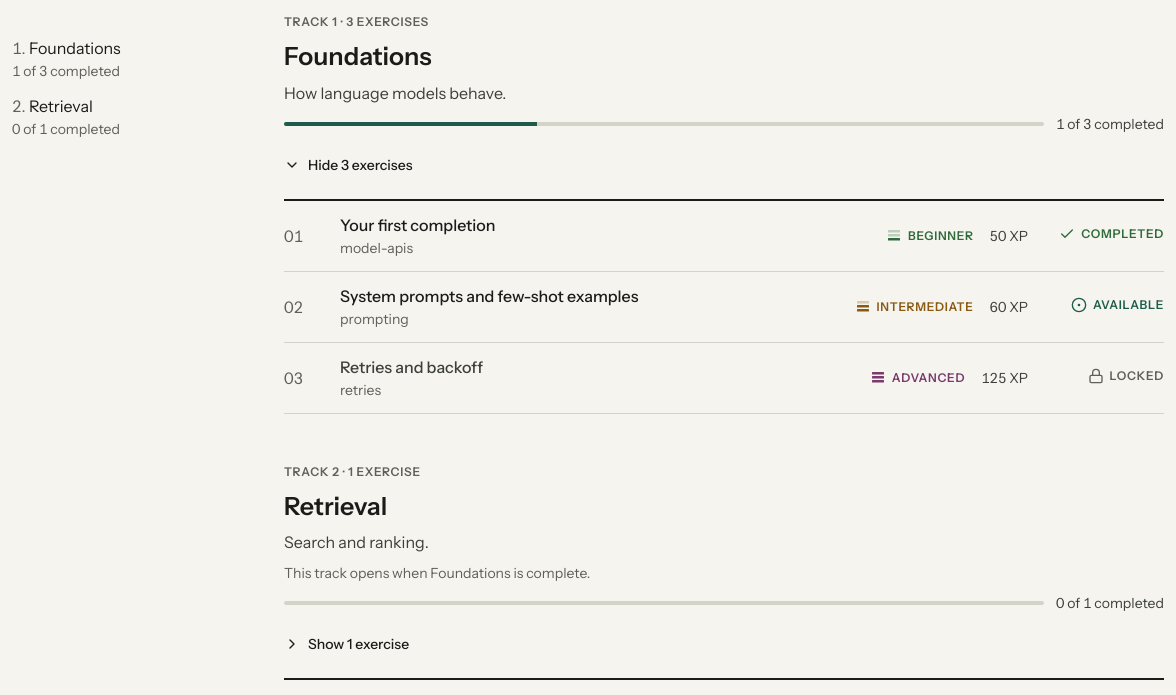
Test: syllabus folding › folds a locked track behind a button that says what it holds, and opens it
The image size is (1176, 695).
Expected: the link "Fixed-size chunking" is not shown
Step 1. Click the button named "Show 1 exercise in Retrieval" → [347, 644], box [280,622,413,666]
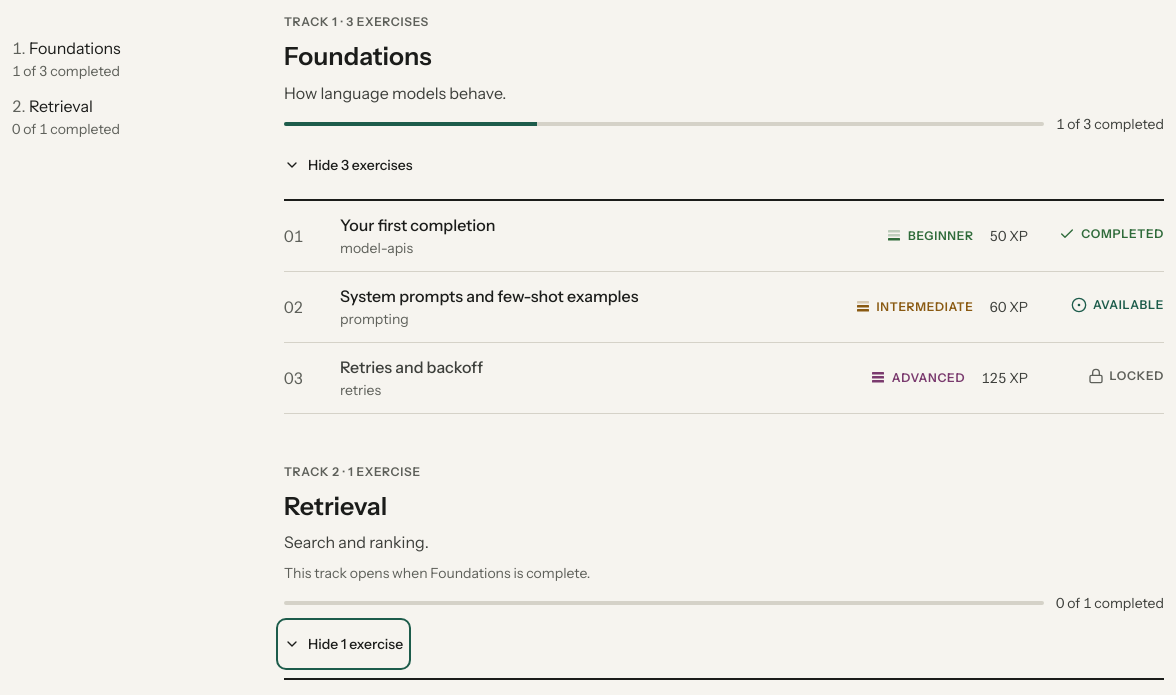
Now the button named "Show 1 exercise in Retrieval" is expanded, box [280,622,407,666]
Step 2. Click the button named "exercises in Foundations" → [348, 164], box [280,142,416,186]
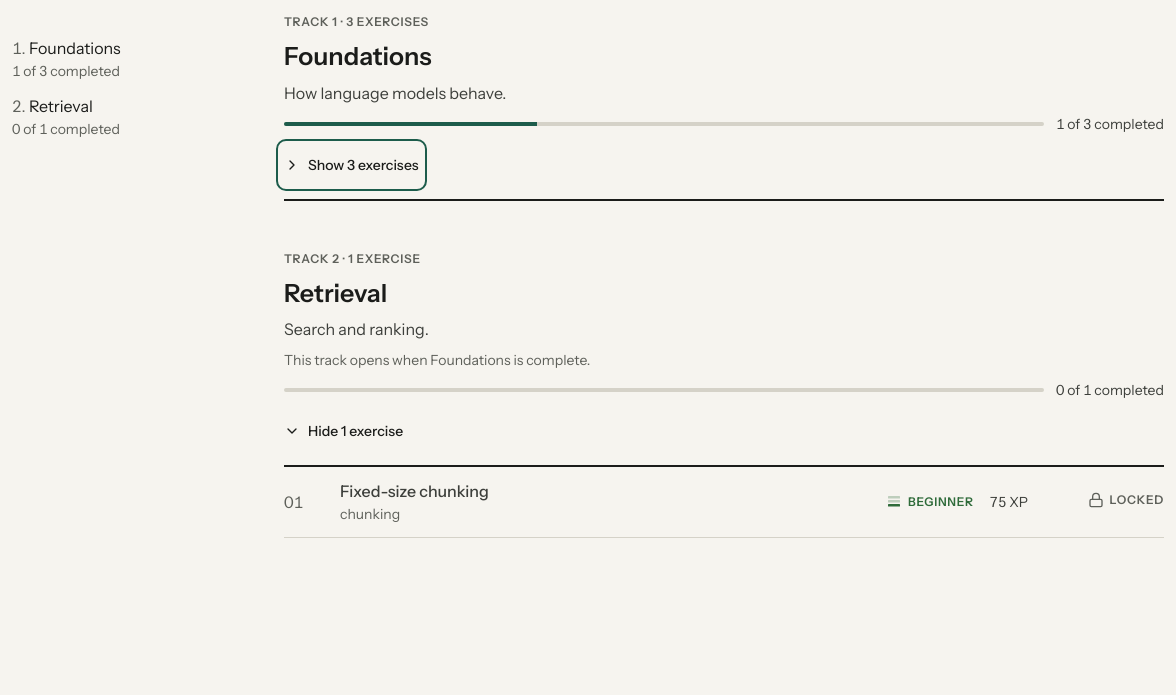
Now the button named "exercises in Foundations" is collapsed, box [280,142,423,186]
